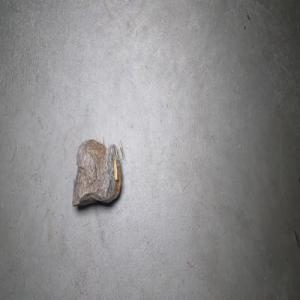Rock: (72, 136, 123, 206)
